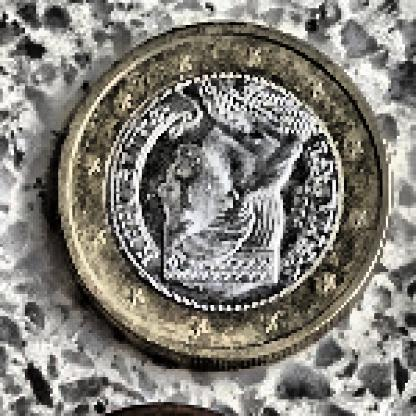coin: (60, 24, 392, 371)
